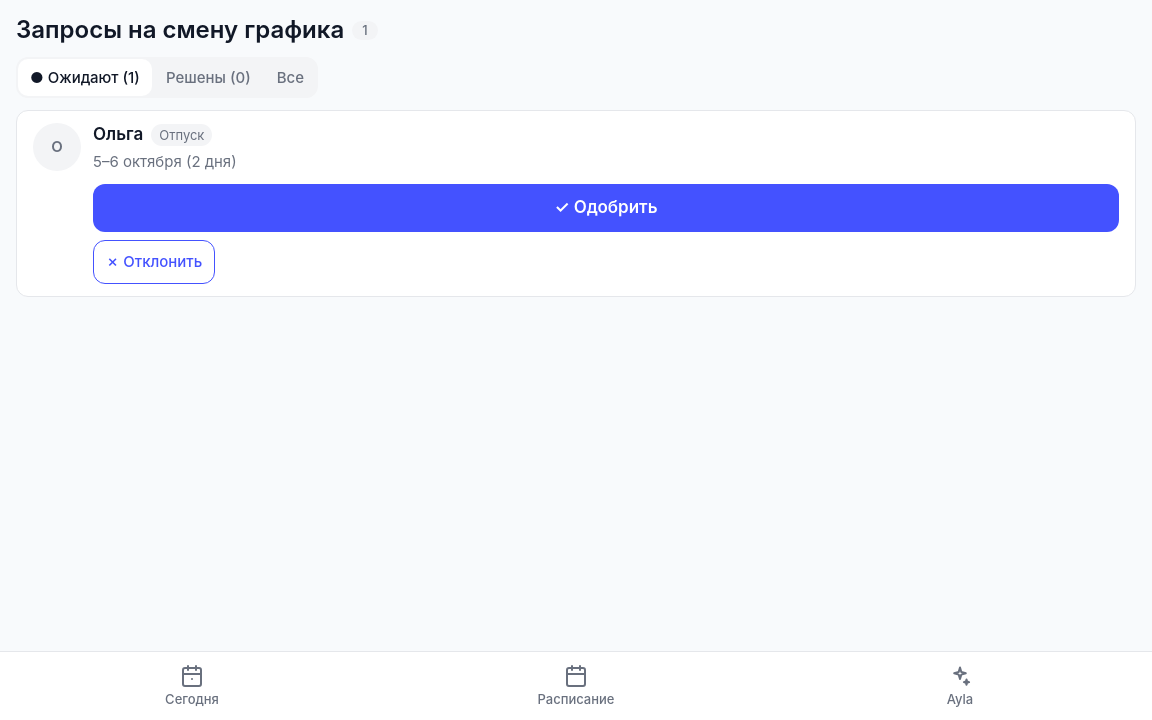
it: решение доезжает до сервера › до подтверждения на сервер не уходит ничего
Expected: the text "Ольга" is shown, [93, 123, 143, 147]
Click the button "✓ Одобрить": [606, 208] box [93, 184, 1119, 232]
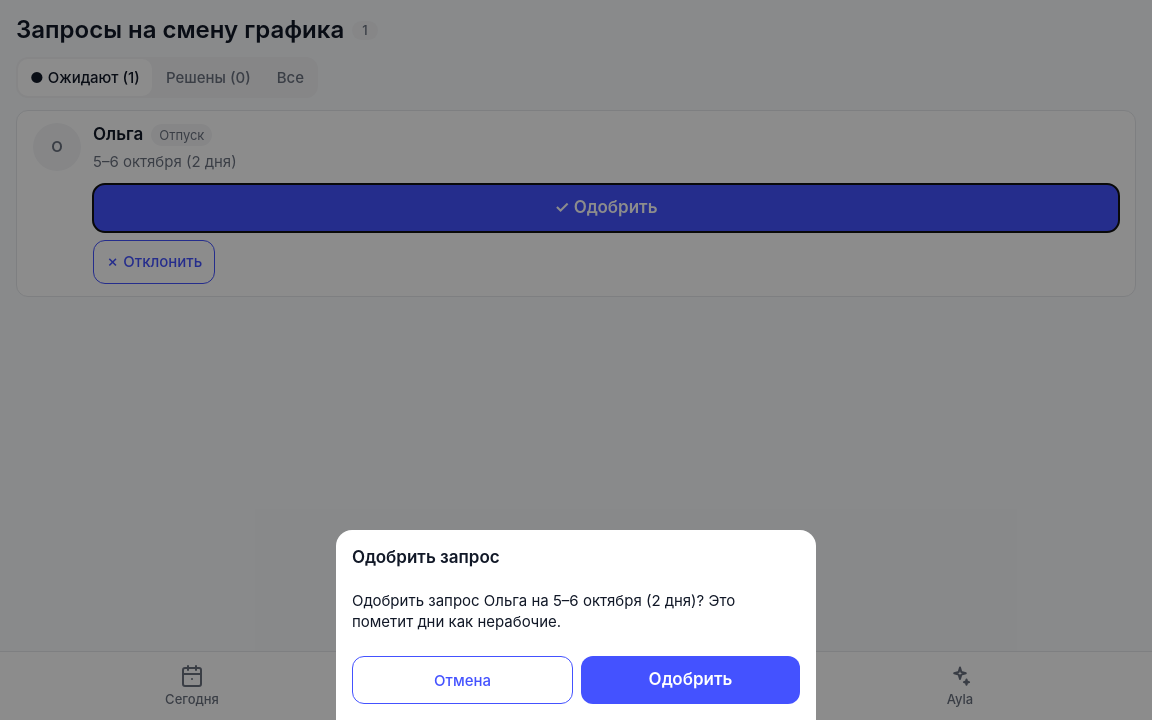
Result: the dialog named "Подтвердить одобрение" is shown
